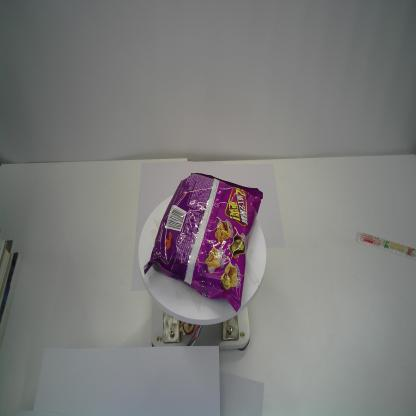Instant Noodles: (142, 171, 264, 312)
